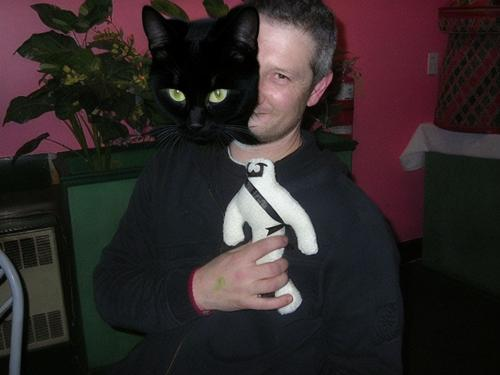cat: (142, 4, 259, 148)
person: (85, 3, 404, 375)
person/hand: (193, 236, 297, 314)
person/head: (215, 3, 337, 147)
pottedplant: (5, 2, 162, 174)
